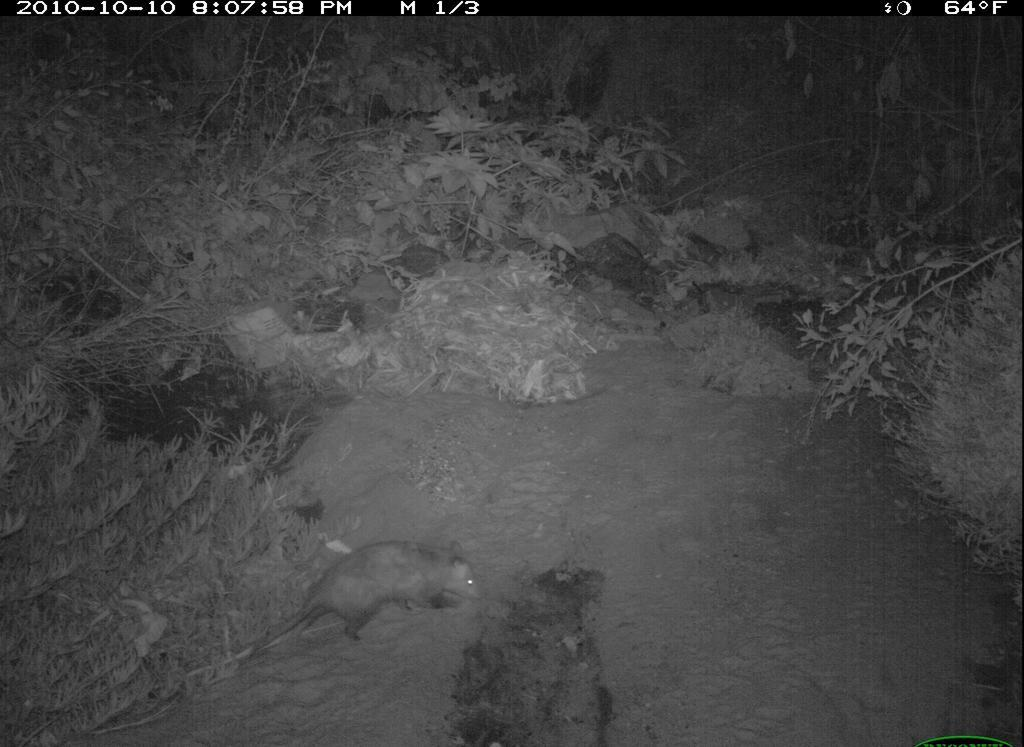opossum: (199, 538, 487, 684)
